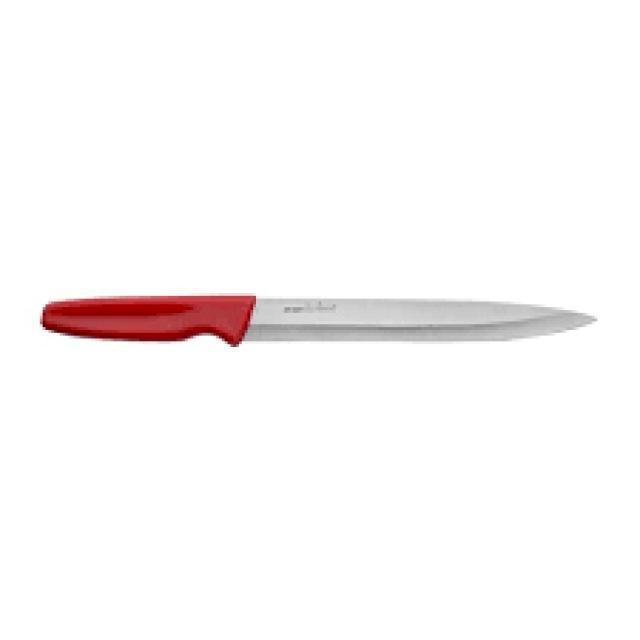Knife: (42, 295, 595, 346)
